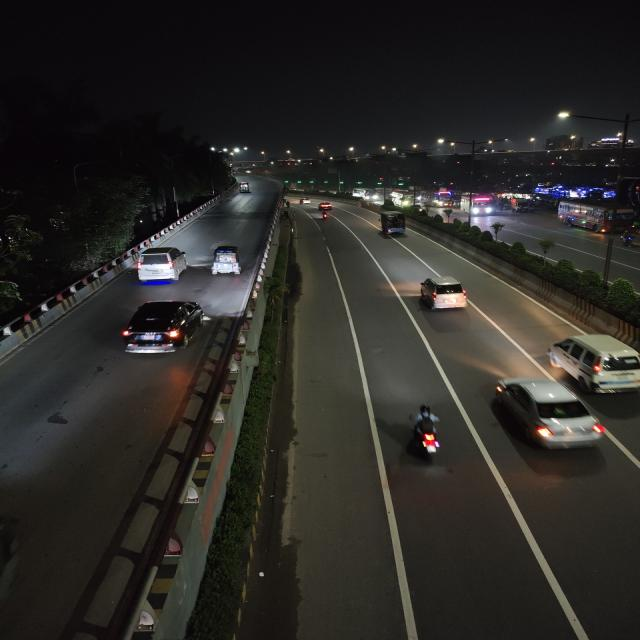bus: (556, 198, 635, 234), (461, 194, 496, 216), (389, 188, 419, 208), (427, 192, 457, 209)
car: (484, 372, 609, 456), (543, 329, 640, 397), (117, 297, 210, 357), (415, 274, 473, 316), (134, 244, 192, 284), (316, 202, 334, 212)
cng: (207, 244, 245, 278), (238, 182, 251, 194), (298, 198, 310, 206)
motorcycle: (400, 403, 449, 463), (318, 210, 330, 222)
pickup_van: (376, 210, 408, 236)
truck: (509, 198, 534, 214)
